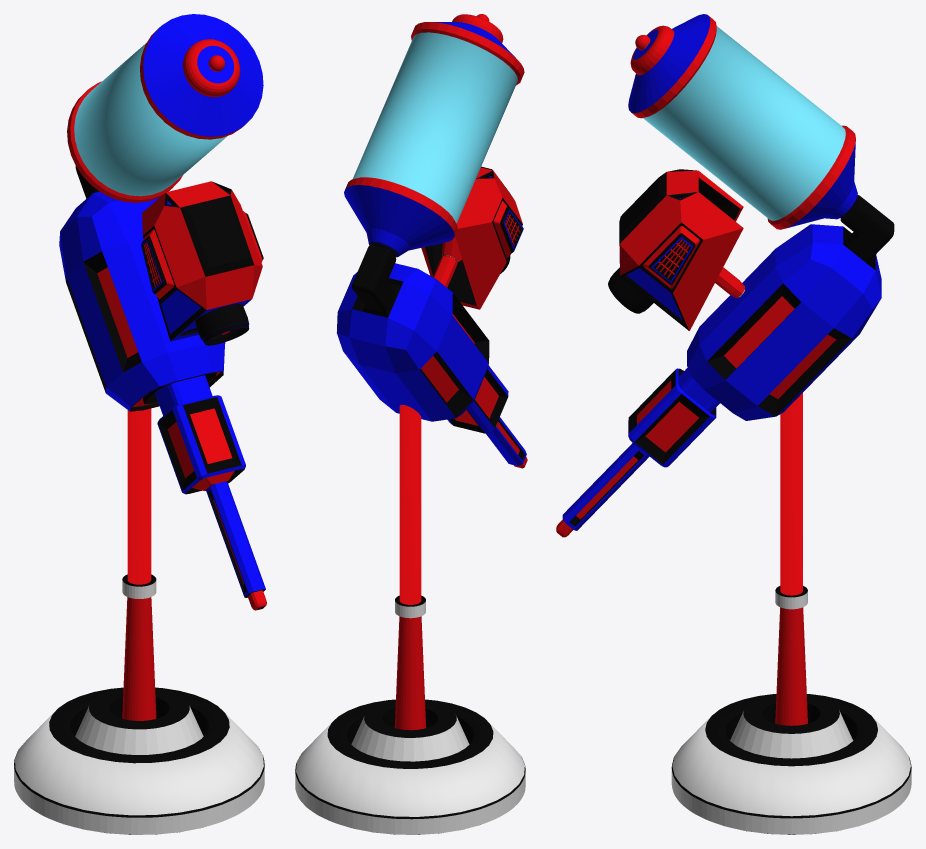
The model's file is Turret_.fbx.
3 renders of one model, left to right at view 1: azimuth 30°, elevation 25°; view 2: azimuth 150°, elevation 25°; view 3: azimuth 270°, elevation 25°, orthographic. The views are drawn at different scales.
Visible parts, largest first — view 1: Cube, Cylinder; view 2: Cube, Cylinder; view 3: Cube, Cylinder.
Boxes of the visible parts, bbox=[...] form: Cube: bbox=[59, 14, 266, 610]; Cylinder: bbox=[14, 408, 264, 834]; Cube: bbox=[336, 14, 527, 468]; Cylinder: bbox=[295, 405, 525, 834]; Cube: bbox=[556, 14, 894, 537]; Cylinder: bbox=[671, 393, 911, 834].
Size of the model in its own units: 199 by 701 by 295.
